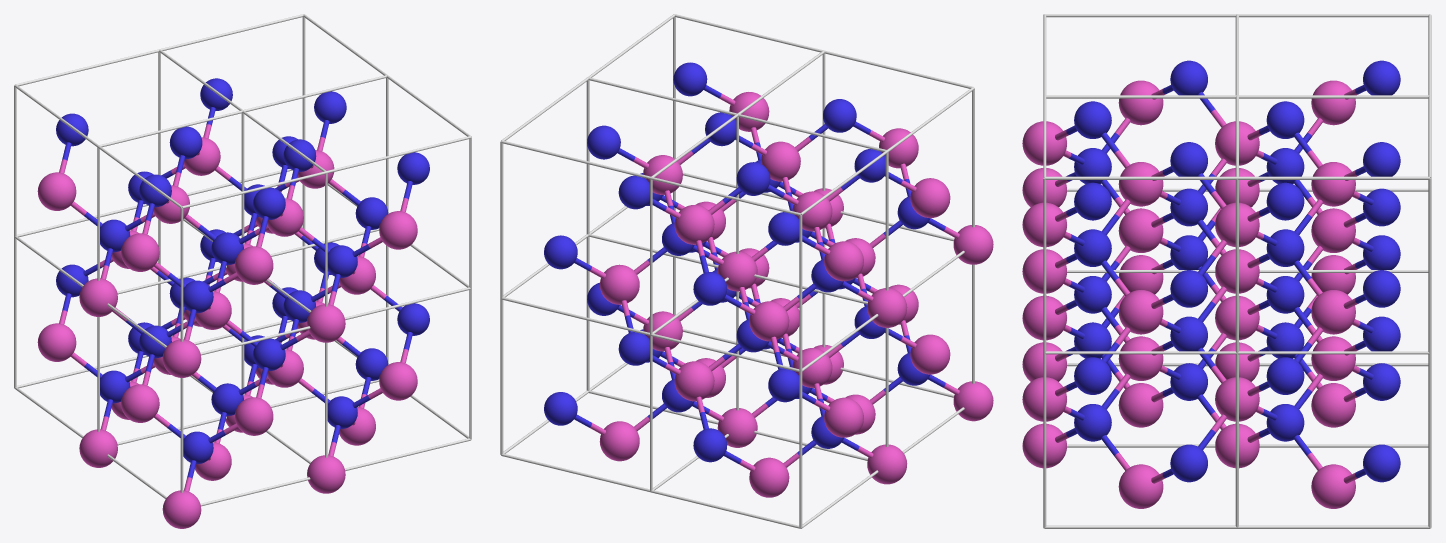
The model's file is cbn.glb.
3 renders of one model, left to right at view 1: azimuth 30°, elevation 25°; view 2: azimuth 150°, elevation 25°; view 3: azimuth 270°, elevation 25°, orthographic. The views are drawn at different scales.
Parts seen in each view (by area): view 1: B03.005, B02.004, B03.001, B02, B03, B03.004, B02.006, B02.002, B01, B01.004, B01.005, B01.001 (+35 smaller); view 2: B02, B02.004, B02.006, B02.002, B04.003, B04.002, B02.003, B04.006, B02.007, B01, B04.007, B01.004 (+38 smaller); view 3: B04.001, B04, B04.002, B04.003, B04.004, B04.006, B04.005, B04.007, B02.006, B02.004, B02.001, B02.003 (+70 smaller).
Part boxes in pixels (x1=…): B03.005: x1=379, y1=211, x2=417, y2=249; B02.004: x1=121, y1=233, x2=159, y2=271; B03.001: x1=379, y1=362, x2=417, y2=400; B02: x1=121, y1=384, x2=159, y2=422; B03: x1=235, y1=397, x2=273, y2=435; B03.004: x1=235, y1=246, x2=273, y2=284; B02.006: x1=37, y1=172, x2=76, y2=210; B02.002: x1=37, y1=323, x2=76, y2=361; B01: x1=162, y1=490, x2=201, y2=528; B01.004: x1=162, y1=339, x2=201, y2=377; B01.005: x1=307, y1=304, x2=345, y2=342; B01.001: x1=307, y1=455, x2=345, y2=493; B02: x1=910, y1=334, x2=950, y2=374; B02.004: x1=910, y1=178, x2=950, y2=218; B02.006: x1=824, y1=241, x2=863, y2=281; B02.002: x1=824, y1=397, x2=863, y2=437; B04.003: x1=599, y1=421, x2=639, y2=461; B04.002: x1=749, y1=457, x2=789, y2=497; B02.003: x1=674, y1=361, x2=714, y2=401; B04.006: x1=749, y1=301, x2=789, y2=341; B02.007: x1=674, y1=205, x2=714, y2=244; B01: x1=953, y1=381, x2=993, y2=421; B04.007: x1=599, y1=264, x2=639, y2=304; B01.004: x1=953, y1=225, x2=993, y2=264; B04.001: x1=1118, y1=464, x2=1163, y2=508; B04: x1=1118, y1=383, x2=1163, y2=427; B04.002: x1=1311, y1=383, x2=1355, y2=427; B04.003: x1=1311, y1=464, x2=1355, y2=508; B04.004: x1=1118, y1=208, x2=1163, y2=252; B04.006: x1=1311, y1=208, x2=1355, y2=252; B04.005: x1=1118, y1=290, x2=1163, y2=334; B04.007: x1=1311, y1=290, x2=1355, y2=334; B02.006: x1=1311, y1=80, x2=1355, y2=125; B02.004: x1=1118, y1=80, x2=1163, y2=125; B02.001: x1=1118, y1=336, x2=1163, y2=380; B02.003: x1=1311, y1=336, x2=1355, y2=380.
Bounding box in the file's own units: 7.68 × 7.68 × 7.68.
